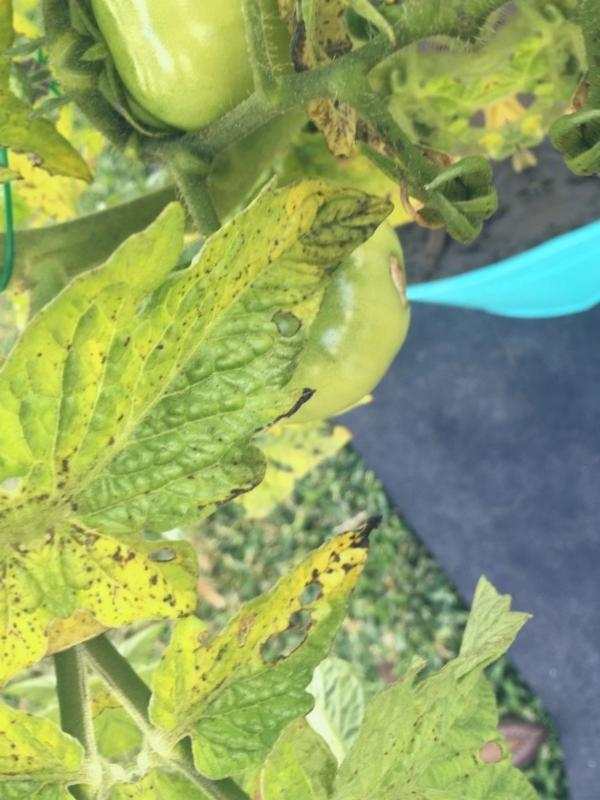Tomato Septoria leaf spot: (0, 130, 507, 652)
